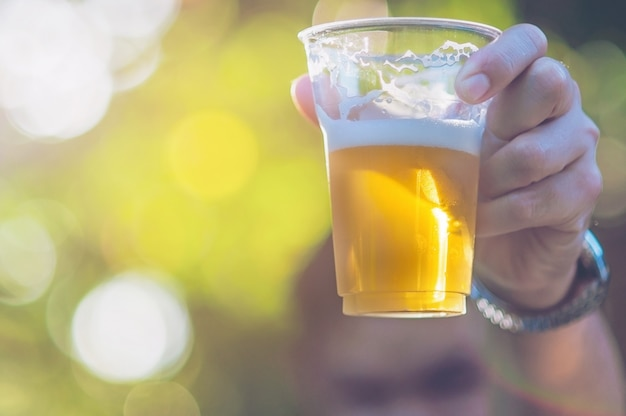alcohol: (295, 16, 509, 318)
